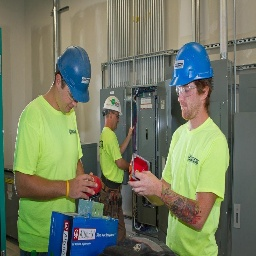helmet: (168, 40, 215, 101), (53, 43, 93, 108), (101, 95, 125, 122)
no-vest: (167, 122, 226, 256), (29, 98, 78, 251), (97, 120, 128, 193)
person: (18, 41, 94, 256), (162, 41, 219, 256), (98, 94, 126, 251)
